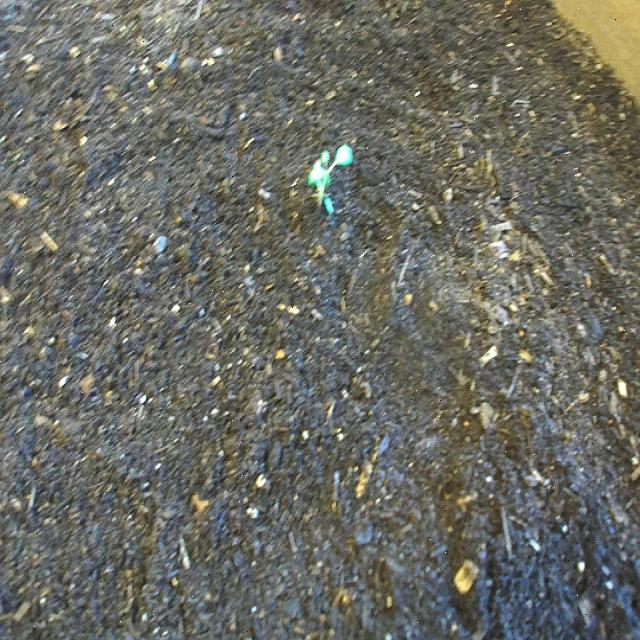Healthy: (303, 130, 359, 232)
